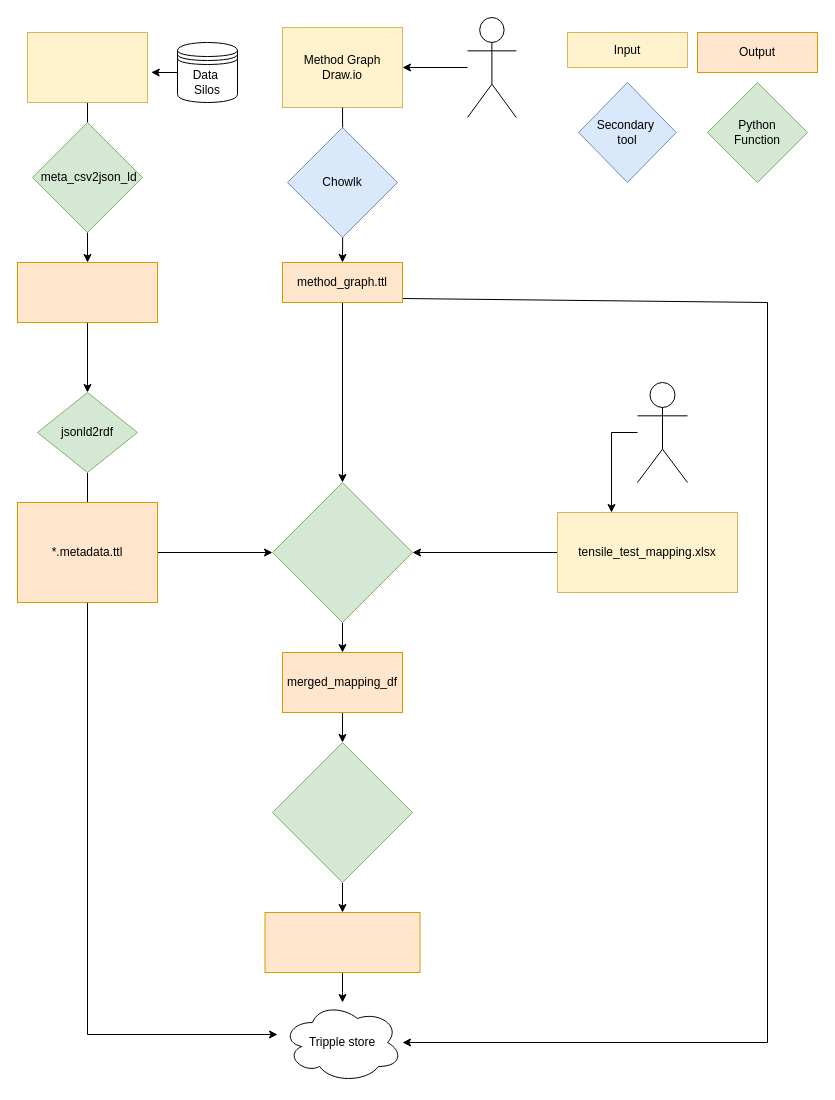
This 835x1100 diagram has some shape labels left out. Here are the shapes that lost their labels. From the top down, the box of each, then its label:
(26, 32, 148, 102): *.csv (meta data + large arrays)
(466, 16, 516, 118): Domain Expert
(16, 262, 158, 322): *.metadata.json (json-ld annotation using csvw, dcat and EMMO)
(636, 382, 688, 482): Data Curator
(272, 482, 412, 622): map_data2method
(272, 742, 412, 882): convert_mapping2graph
(264, 912, 420, 972): tensile_test_mapping.ttl
